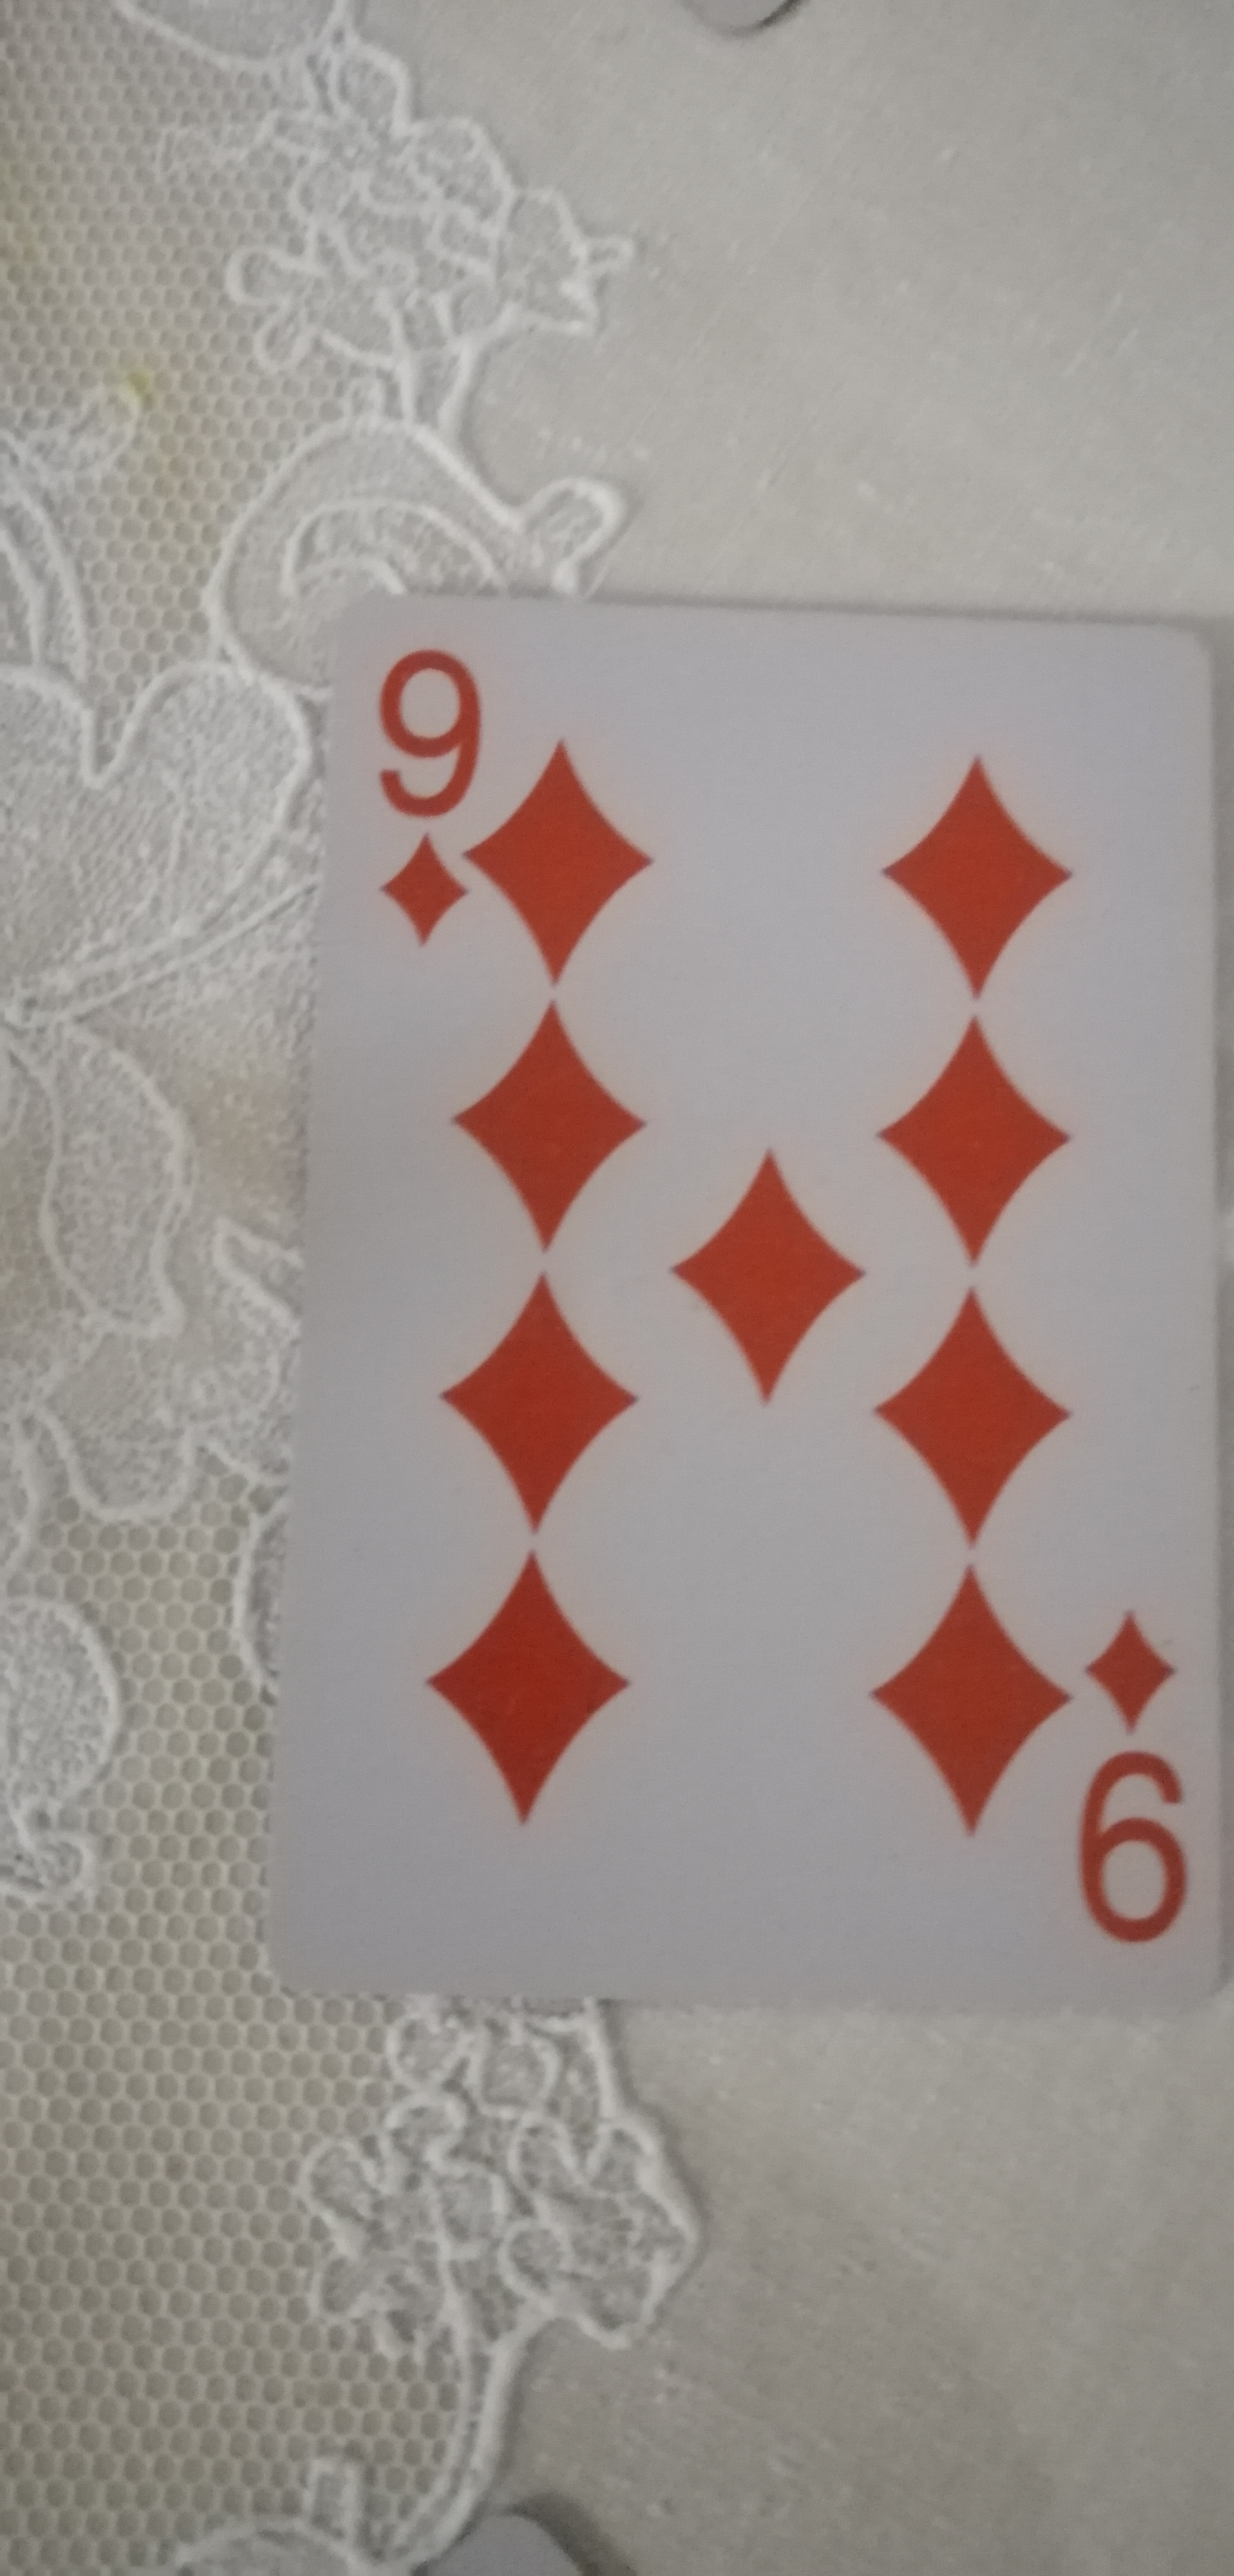nine: (266, 559, 1234, 2021)
